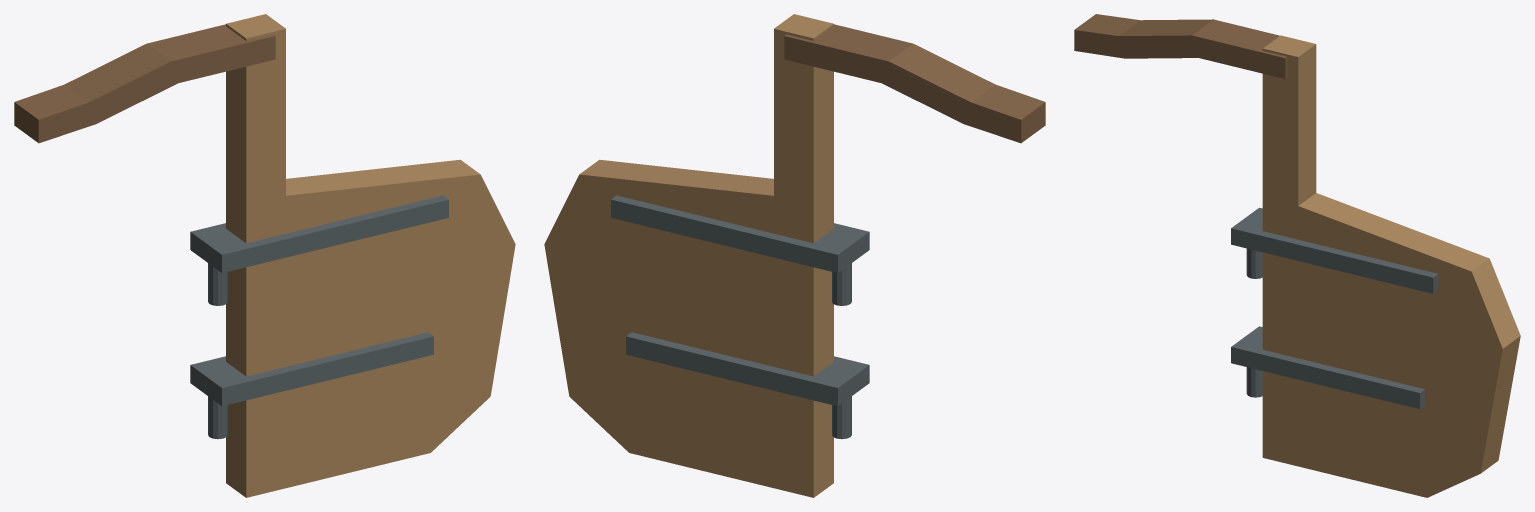
3 views of the same model, side by side, from view 1: azimuth 30°, elevation 25°; view 2: azimuth 150°, elevation 25°; view 3: azimuth 330°, elevation 25° (orthographic). The views are drawn at different scales.
Visible parts, largest first — view 1: WholeRudderBladeAndTallStock, WholeBentHeadTiller, UpperWholeWrapStrap, LowerWholeWrapStrap, LowerDownwardPintle, UpperDownwardPintle; view 2: WholeRudderBladeAndTallStock, WholeBentHeadTiller, UpperWholeWrapStrap, LowerWholeWrapStrap, LowerDownwardPintle, UpperDownwardPintle; view 3: WholeRudderBladeAndTallStock, WholeBentHeadTiller, UpperWholeWrapStrap, LowerWholeWrapStrap.
Boxes of the visible parts, left/top/right/bottom form: WholeRudderBladeAndTallStock: left=226, top=14, right=515, bottom=497; WholeBentHeadTiller: left=14, top=24, right=275, bottom=143; UpperWholeWrapStrap: left=190, top=195, right=448, bottom=272; LowerWholeWrapStrap: left=190, top=332, right=433, bottom=406; LowerDownwardPintle: left=208, top=396, right=227, bottom=439; UpperDownwardPintle: left=208, top=263, right=227, bottom=305; WholeRudderBladeAndTallStock: left=544, top=14, right=833, bottom=497; WholeBentHeadTiller: left=784, top=24, right=1045, bottom=143; UpperWholeWrapStrap: left=611, top=195, right=869, bottom=272; LowerWholeWrapStrap: left=626, top=332, right=869, bottom=406; LowerDownwardPintle: left=832, top=396, right=851, bottom=439; UpperDownwardPintle: left=832, top=263, right=851, bottom=305; WholeRudderBladeAndTallStock: left=1262, top=35, right=1520, bottom=497; WholeBentHeadTiller: left=1074, top=14, right=1287, bottom=78; UpperWholeWrapStrap: left=1231, top=207, right=1438, bottom=293; LowerWholeWrapStrap: left=1231, top=326, right=1424, bottom=409.
Bounding box in the file's own units: 1.92 × 1.76 × 0.22.
